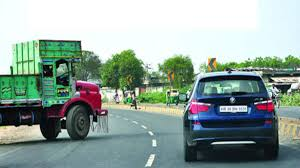car: (181, 69, 282, 159)
